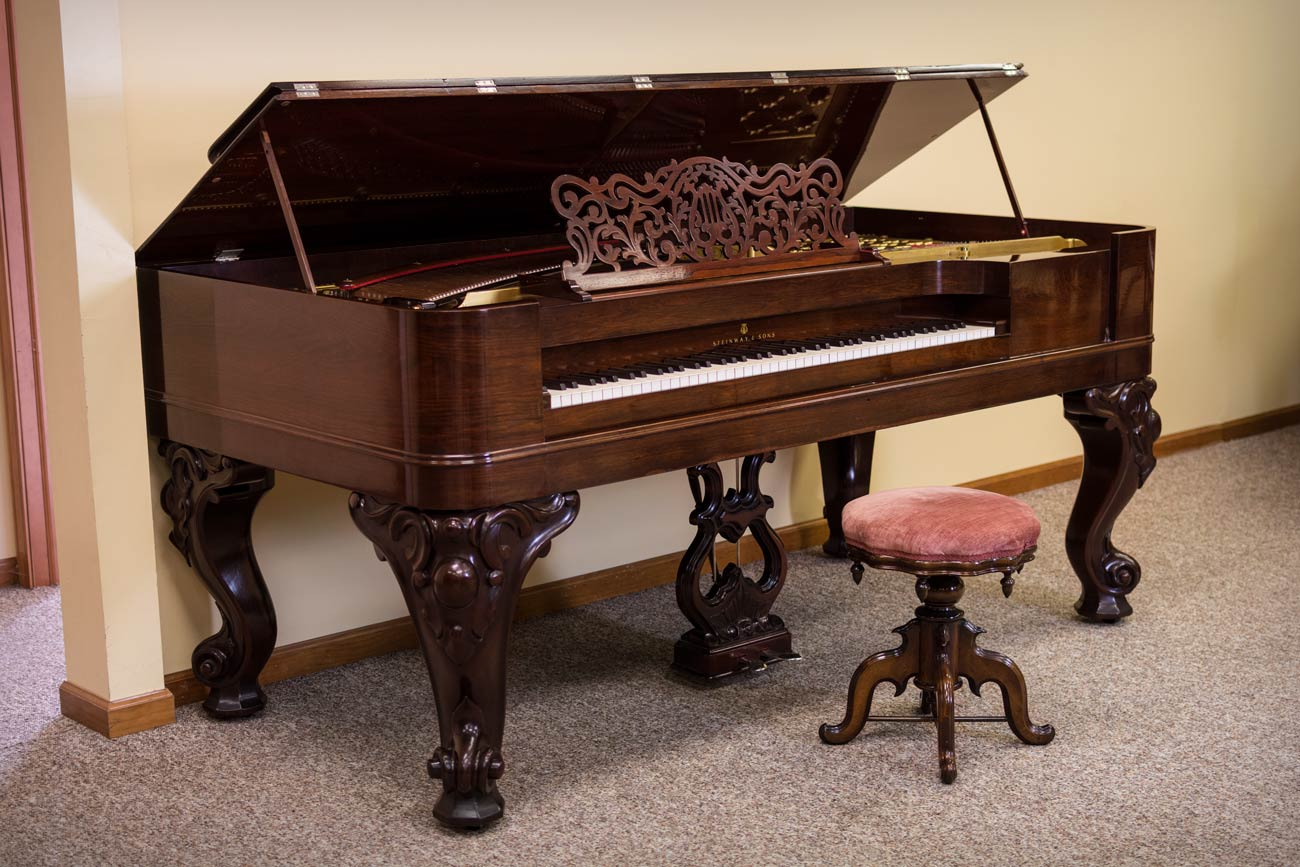GrandPiano: (128, 86, 1198, 443)
